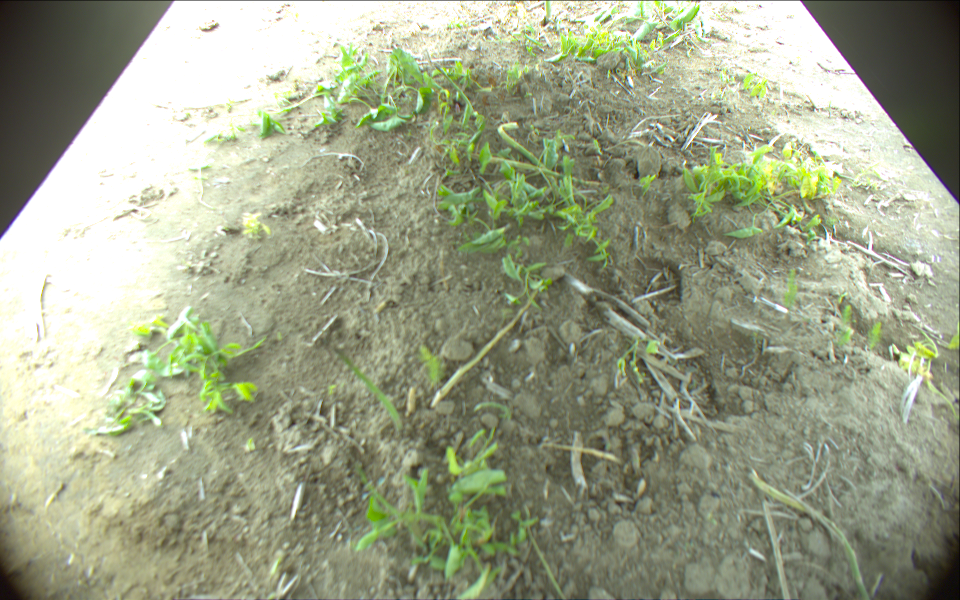aspa: (747, 469, 872, 600), (428, 280, 546, 408), (329, 340, 403, 434), (469, 148, 599, 187), (495, 121, 560, 193), (433, 62, 475, 117), (544, 1, 551, 23)
